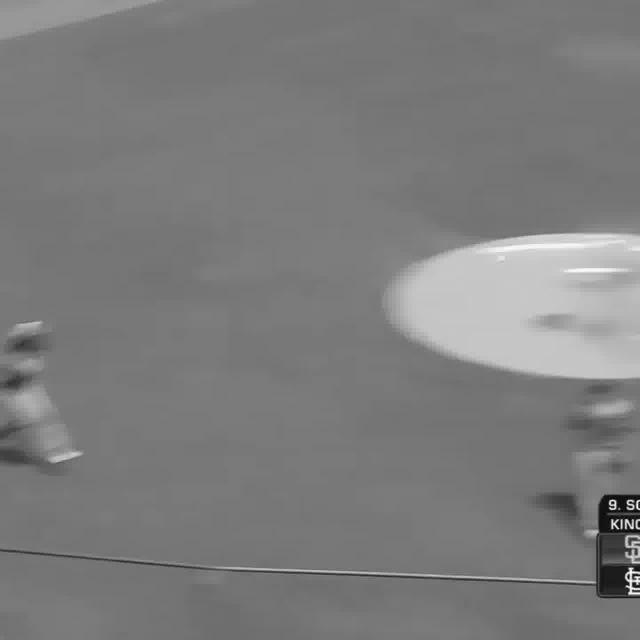baseball: (570, 266, 630, 279)
shoe: (48, 450, 82, 469)
